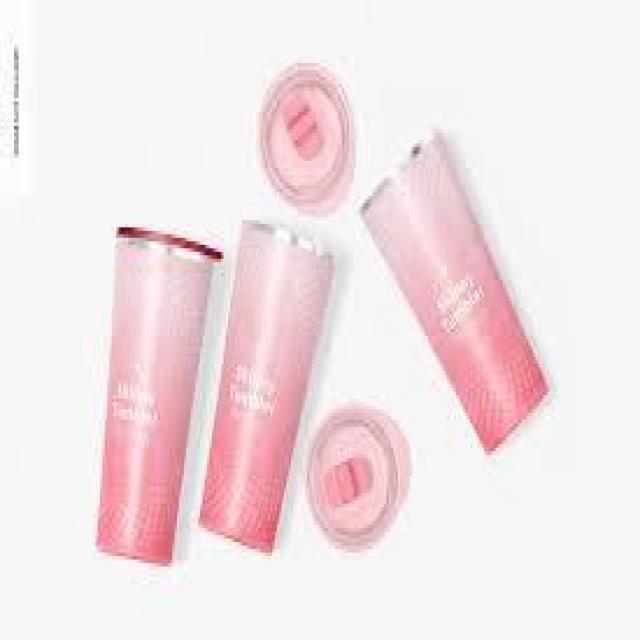bottle: (91, 217, 223, 570), (204, 208, 336, 558)
